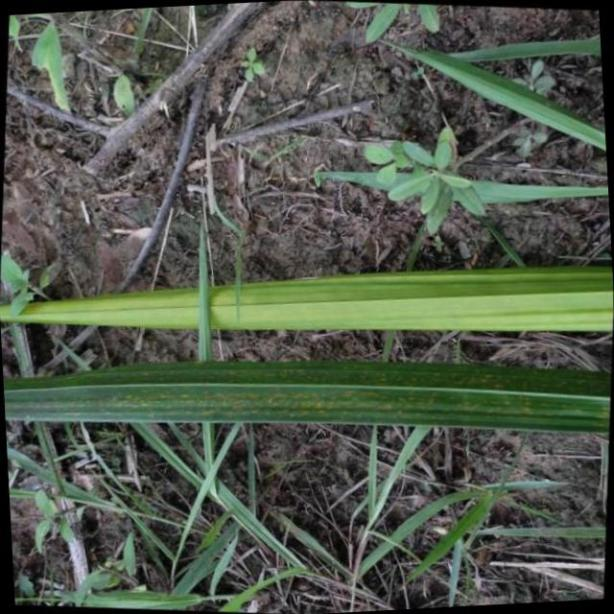nitrogen: (9, 265, 614, 332), (0, 366, 614, 432)
